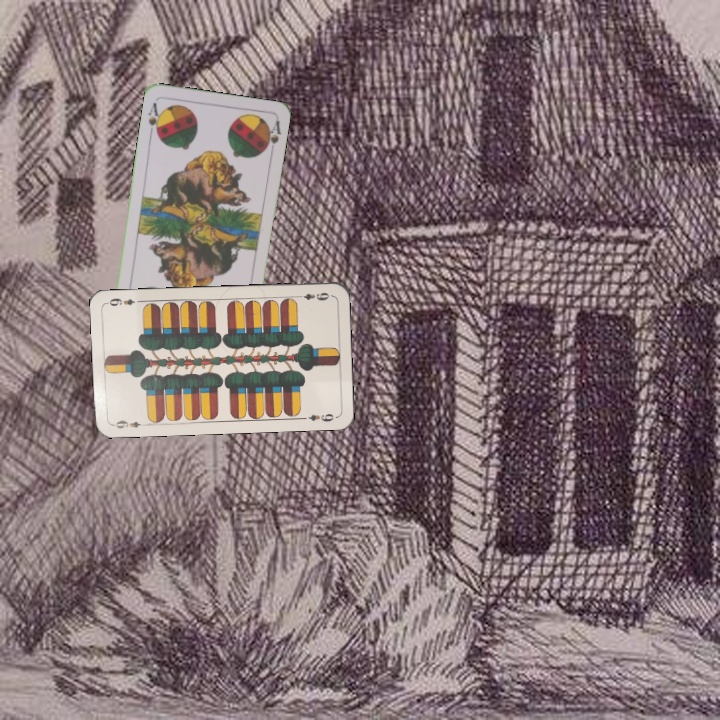E9: (293, 288, 333, 303), (109, 416, 149, 431)
SA: (144, 98, 165, 139)
